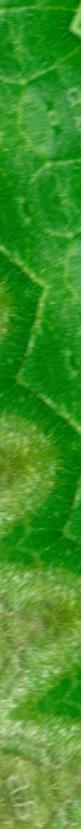Tomato mold leaf: (0, 255, 81, 574)
